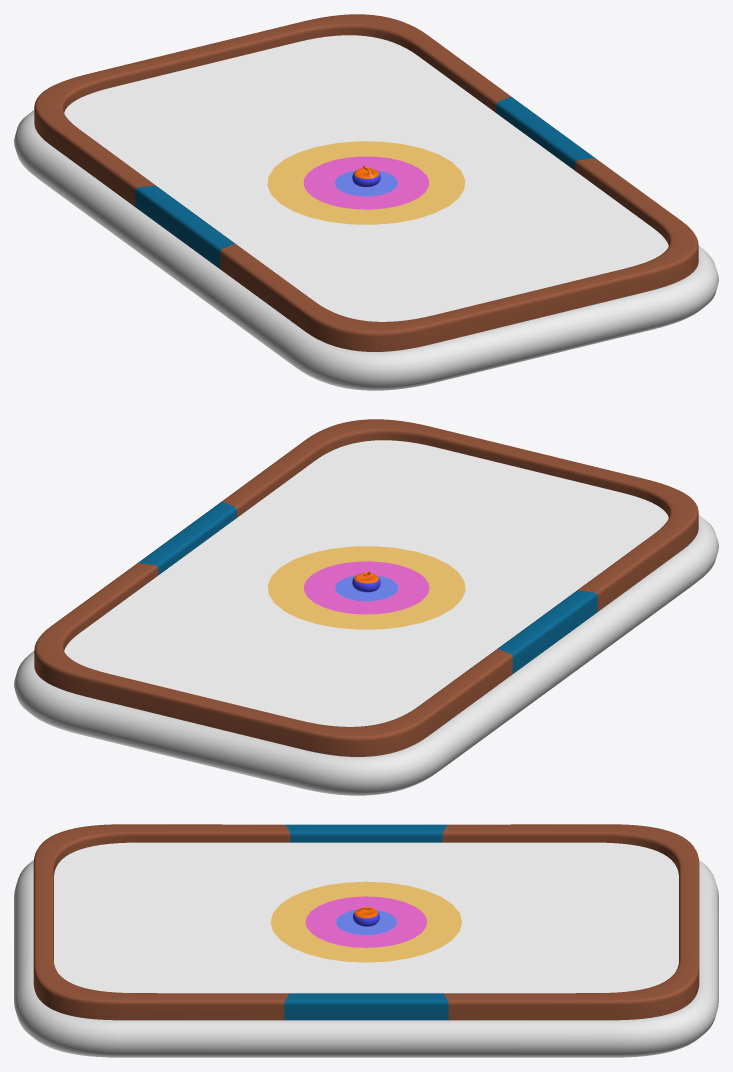
File: Curling Set.FBX
The picture shows the model from 3 angles, top to bottom: view 1: azimuth 30°, elevation 25°; view 2: azimuth 150°, elevation 25°; view 3: azimuth 270°, elevation 25°; orthographic projection. The views are drawn at different scales.
Parts seen in each view (by area): view 1: Courth, Cerceve, Line001, Circle003, Circle002, Circle001; view 2: Courth, Cerceve, Line001, Circle003, Circle002, Circle001; view 3: Courth, Cerceve, Line001, Circle003, Circle002, Circle001, Curling Ball.
Boxes of the visible parts, box(x1,y1,x2,y2) form: Courth: box(64, 35, 668, 321); Cerceve: box(34, 14, 698, 351); Line001: box(14, 110, 718, 390); Circle003: box(267, 141, 465, 224); Circle002: box(303, 156, 429, 209); Circle001: box(335, 170, 397, 196); Courth: box(64, 440, 668, 726); Cerceve: box(34, 419, 698, 756); Line001: box(14, 515, 718, 795); Circle003: box(268, 546, 465, 629); Circle002: box(304, 561, 429, 614); Circle001: box(335, 575, 398, 601); Courth: box(54, 842, 678, 993); Cerceve: box(33, 824, 699, 1020); Line001: box(14, 860, 718, 1057); Circle003: box(270, 881, 462, 962); Circle002: box(305, 896, 427, 947); Circle001: box(336, 910, 396, 934); Curling Ball: box(353, 907, 379, 926).
Size of the model in its own units: 164 by 23.45 by 251.
